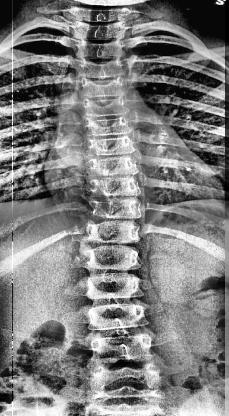Vertebrae: (92, 336, 152, 370), (85, 304, 149, 332), (83, 272, 145, 298), (86, 245, 144, 272), (90, 176, 146, 200), (90, 196, 146, 219), (89, 222, 145, 244), (84, 116, 136, 135), (90, 158, 139, 178), (89, 135, 136, 155), (83, 99, 135, 117), (79, 78, 131, 96), (79, 20, 125, 40), (82, 59, 126, 79), (80, 40, 124, 60)
